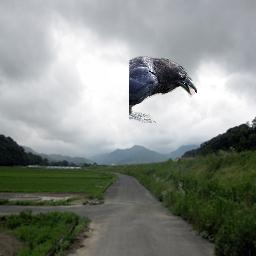Crow: (129, 56, 197, 123)
